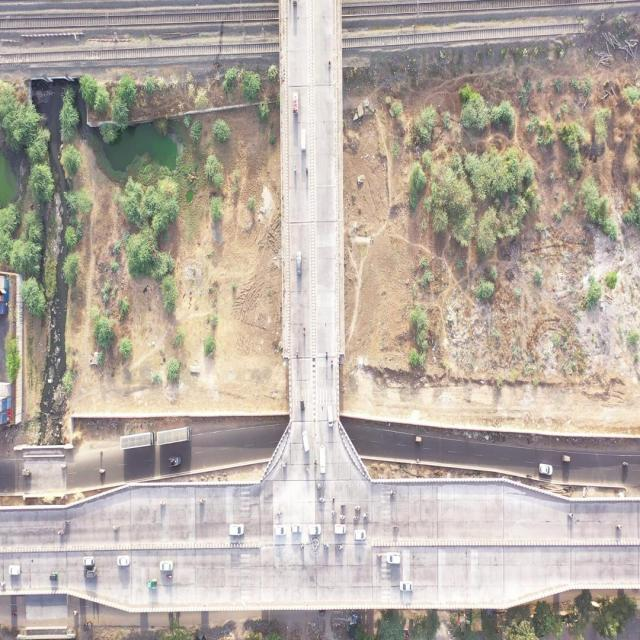3W: (20, 465, 34, 478), (48, 570, 60, 584), (561, 452, 571, 464), (84, 621, 94, 632), (316, 609, 326, 619), (300, 395, 306, 411), (414, 434, 423, 444)
Cars: (318, 442, 327, 476), (228, 521, 244, 537), (273, 524, 288, 540), (300, 430, 310, 453), (326, 403, 335, 428), (160, 556, 174, 572), (399, 578, 413, 594), (386, 550, 400, 565), (539, 461, 553, 476), (117, 554, 131, 568), (308, 522, 322, 536), (8, 564, 22, 577), (82, 553, 96, 566), (296, 250, 303, 276), (354, 528, 367, 541), (300, 127, 306, 153), (334, 523, 346, 535), (86, 568, 98, 579), (291, 522, 302, 534)
LCV: (291, 91, 300, 116), (167, 455, 183, 467)
M2W: (158, 496, 167, 509), (98, 466, 107, 476), (112, 522, 121, 532), (388, 488, 397, 498), (620, 459, 630, 468), (59, 463, 68, 472), (10, 609, 18, 619), (198, 495, 206, 505), (315, 481, 323, 491), (336, 542, 344, 552), (57, 528, 65, 537), (72, 609, 80, 618), (318, 495, 326, 504), (390, 524, 400, 531), (304, 164, 309, 178), (363, 511, 370, 520), (299, 540, 305, 550), (323, 540, 329, 550), (167, 574, 174, 582), (567, 511, 574, 519), (327, 56, 331, 70), (614, 523, 623, 529), (293, 162, 297, 175), (305, 464, 310, 474), (64, 518, 71, 525), (282, 460, 288, 468), (376, 552, 382, 560), (303, 324, 306, 340), (330, 358, 334, 370), (296, 346, 299, 361), (276, 509, 282, 516), (314, 456, 317, 470), (354, 505, 361, 511), (339, 514, 345, 521), (341, 502, 346, 510), (325, 351, 328, 364), (332, 494, 335, 506), (331, 509, 337, 515), (353, 516, 359, 522)
MAV: (157, 426, 191, 446), (120, 431, 156, 449)
